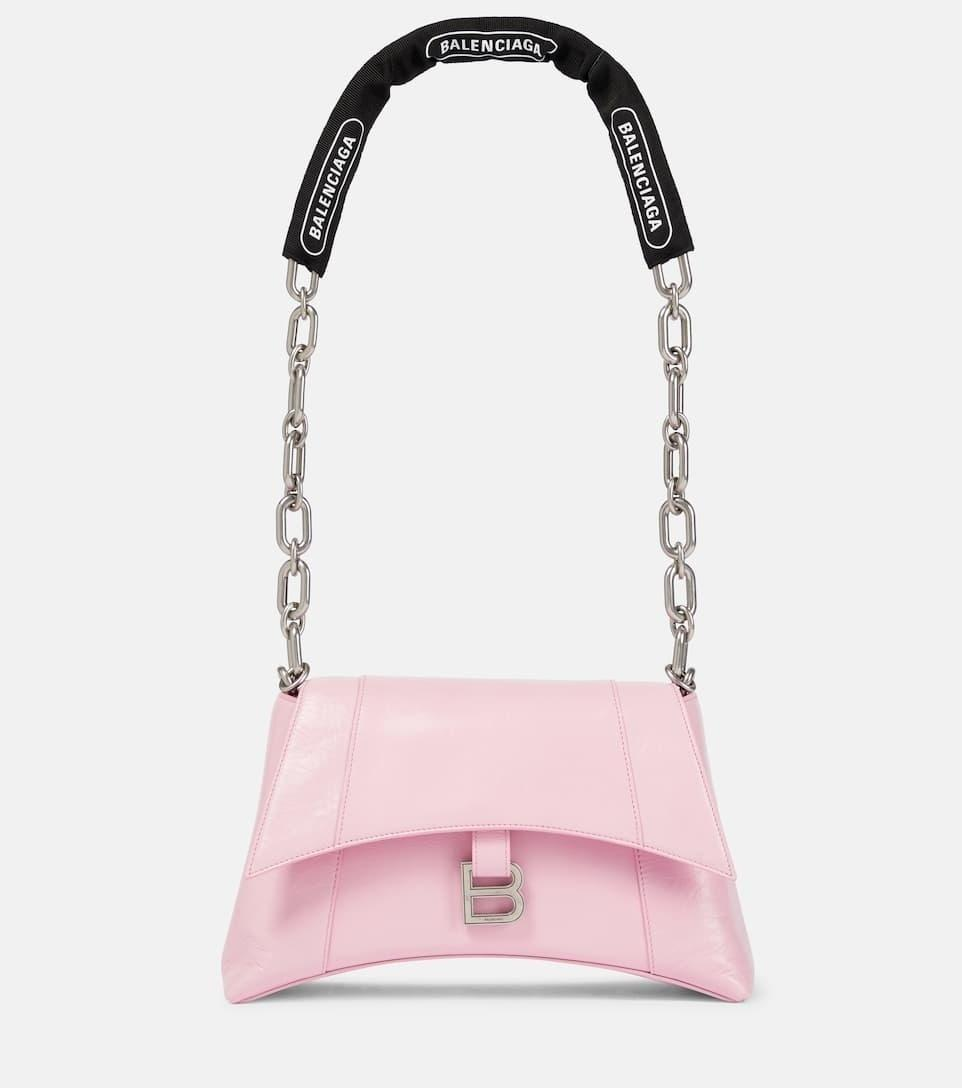BALENCIAGA: (308, 136, 356, 240), (619, 122, 662, 232), (441, 39, 541, 57)
